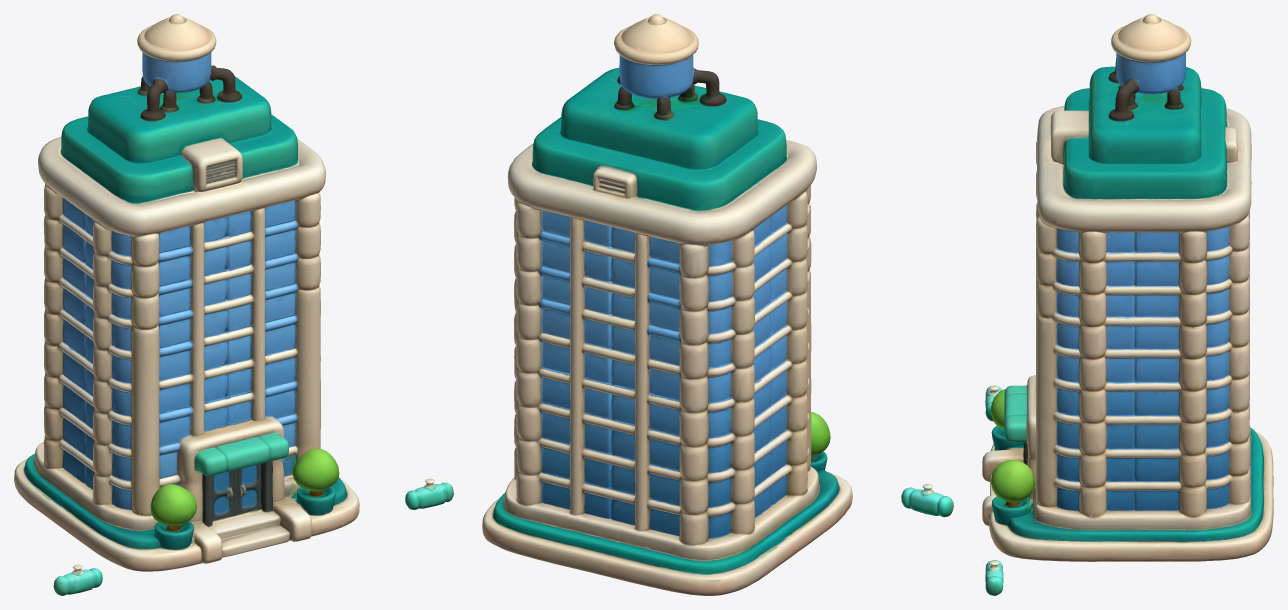
The model's file is prop_tower.glb.
The picture shows the model from 3 angles, left to right: view 1: azimuth 30°, elevation 25°; view 2: azimuth 150°, elevation 25°; view 3: azimuth 270°, elevation 25°; orthographic projection. The views are drawn at different scales.
Bounding box in the file's own units: 1.65 × 1.9 × 1.03.
Materials: 1 (1 with a texture image).
